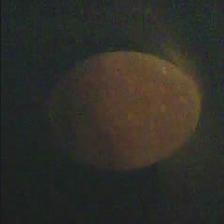fertile: (53, 48, 201, 168)
